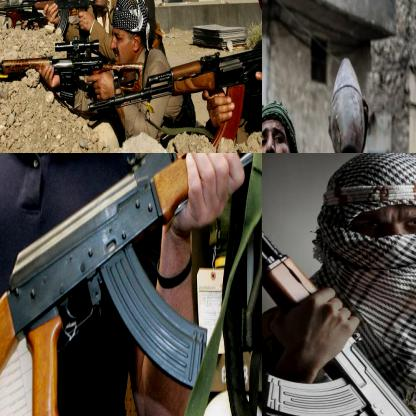rifle: (0, 153, 261, 415), (262, 153, 415, 415), (86, 45, 261, 150), (0, 36, 146, 108), (5, 0, 107, 37), (0, 0, 42, 36)
